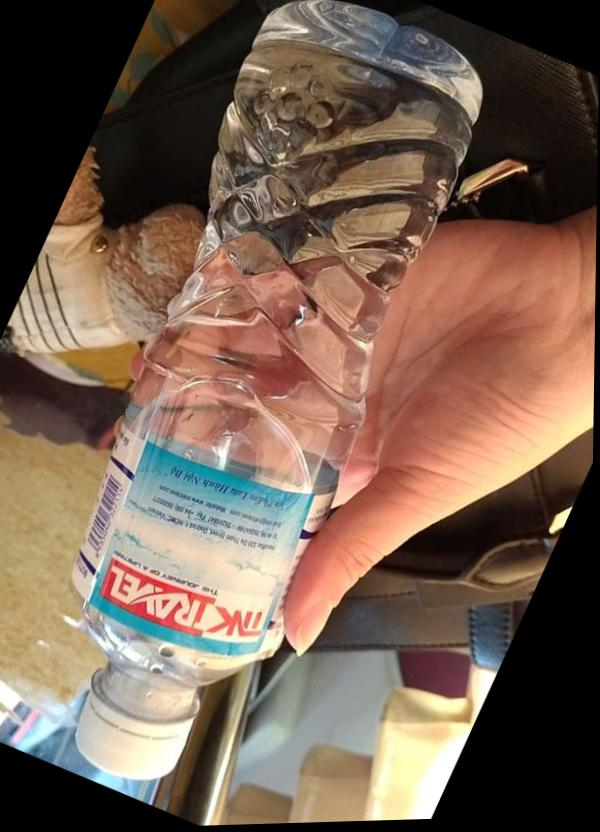plastic: (0, 0, 529, 821)
